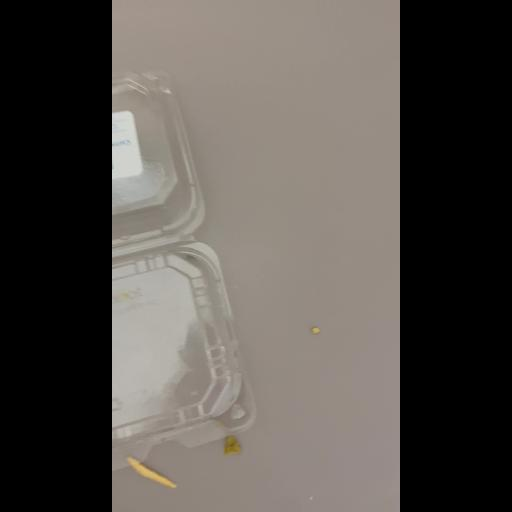small_plastic_container: (112, 62, 254, 472)
